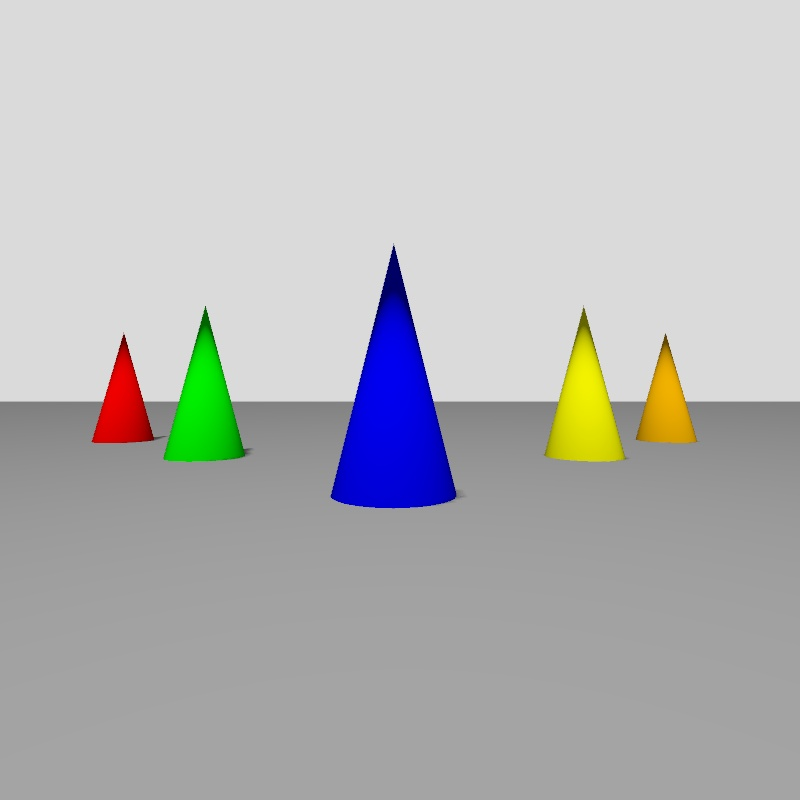Blue_cone: (332, 248, 456, 506)
Green_cone: (164, 308, 244, 460)
Orange_cone: (638, 334, 696, 441)
Red_cone: (93, 334, 154, 442)
Yellow_cone: (546, 309, 624, 461)
